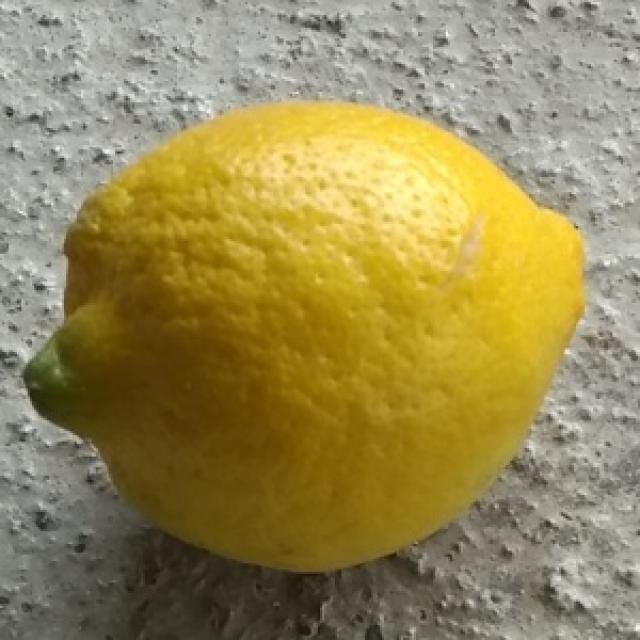Ripe: (21, 95, 592, 572)
